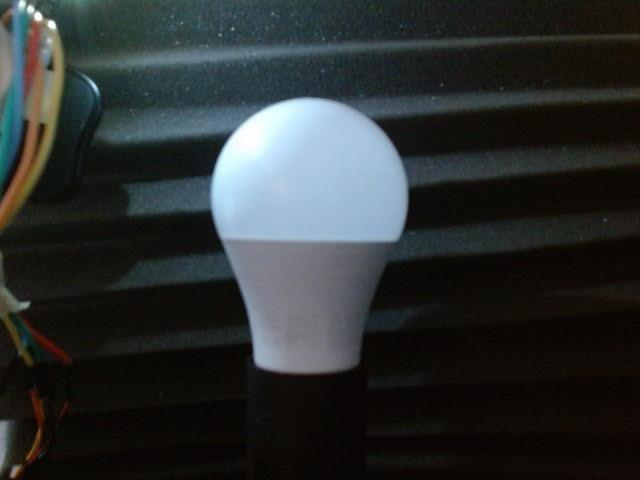Fan: (202, 91, 416, 305)
